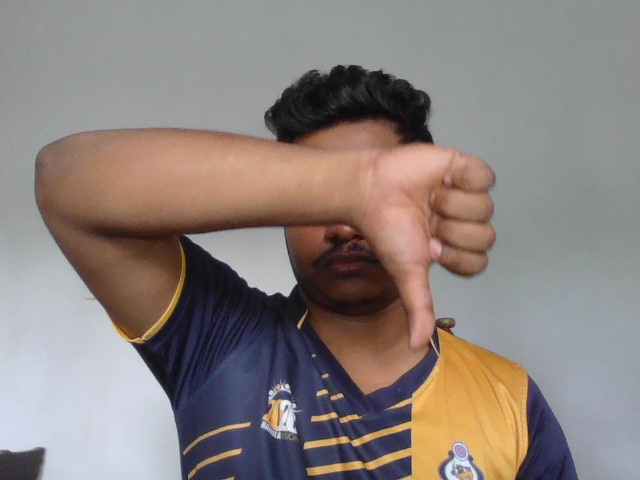Disagree: (364, 144, 500, 352)
